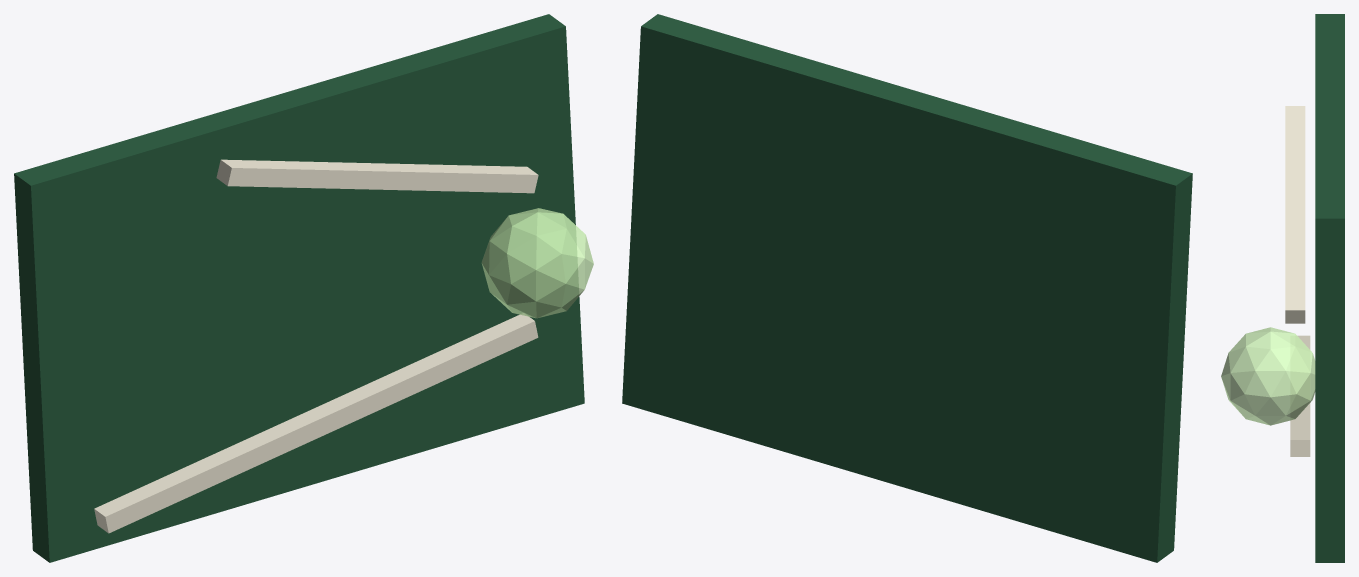
File: 02_world_prop_polish.glb
3 renders of one model, left to right at view 1: azimuth 30°, elevation 25°; view 2: azimuth 150°, elevation 25°; view 3: azimuth 270°, elevation 25°, orthographic. The views are drawn at different scales.
Parts seen in each view (by area): view 1: object_overlay_plate, edge_wear_a, glow_socket, edge_wear_b; view 2: object_overlay_plate; view 3: object_overlay_plate, glow_socket, edge_wear_b, edge_wear_a.
Boxes of the visible parts, box(x1,y1,x2,y2) form: object_overlay_plate: box(14, 14, 584, 562); edge_wear_a: box(94, 313, 538, 533); glow_socket: box(481, 208, 593, 318); edge_wear_b: box(216, 159, 538, 193); object_overlay_plate: box(622, 14, 1192, 562); object_overlay_plate: box(1315, 14, 1344, 562); glow_socket: box(1221, 327, 1315, 425); edge_wear_b: box(1285, 106, 1305, 323); edge_wear_a: box(1290, 335, 1310, 456).
Bounding box in the file's own units: 1.14 × 0.8057 × 0.25.
